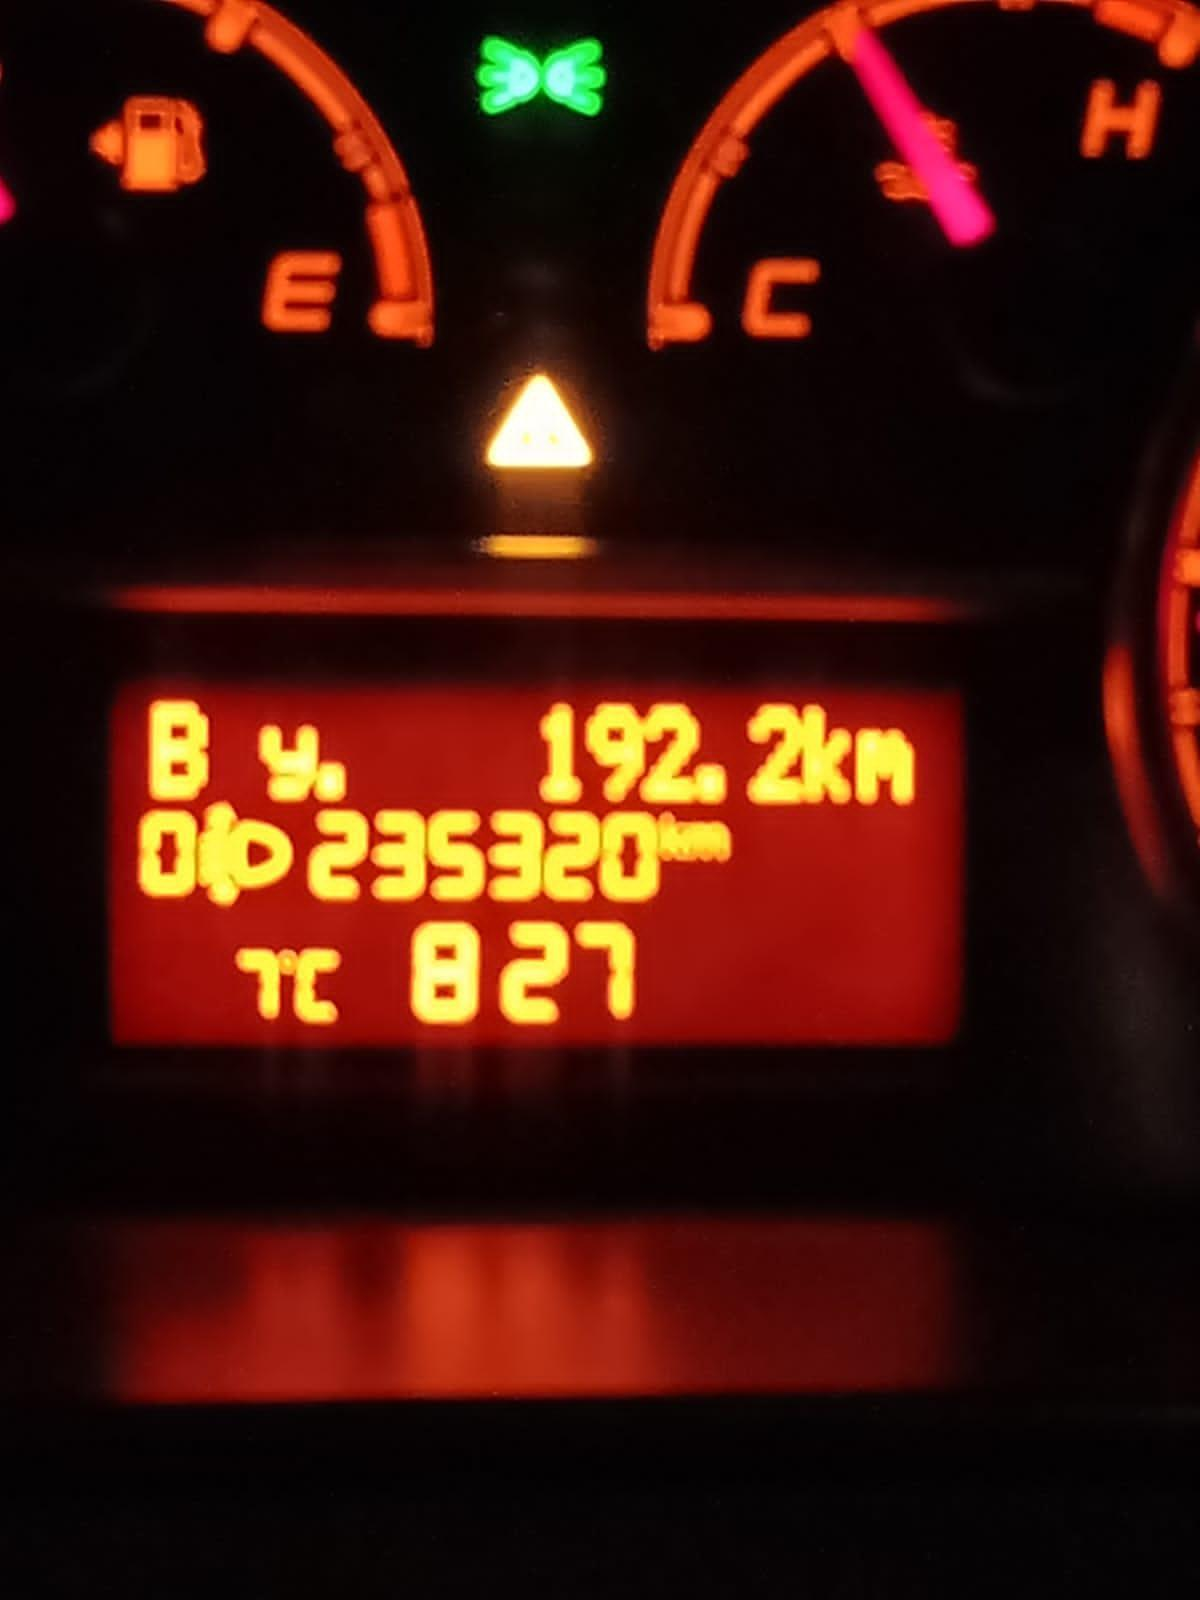,: (695, 761, 734, 804), (314, 760, 350, 804)
0: (599, 810, 663, 906), (134, 806, 197, 901)
1: (532, 697, 587, 805)
2: (494, 916, 574, 1028), (744, 699, 807, 808), (306, 808, 371, 907), (638, 700, 700, 804), (543, 808, 603, 903)
3: (487, 806, 545, 906), (369, 806, 427, 903)
5: (425, 808, 487, 903)
7: (571, 916, 640, 1023), (231, 944, 284, 1027)
8: (405, 917, 484, 1027)
9: (586, 695, 647, 808)
X: (145, 697, 211, 803), (855, 722, 918, 808), (255, 721, 319, 804), (802, 703, 853, 806), (290, 944, 347, 1028), (692, 811, 734, 863), (655, 810, 692, 863)
odometer: (95, 656, 978, 1066)
